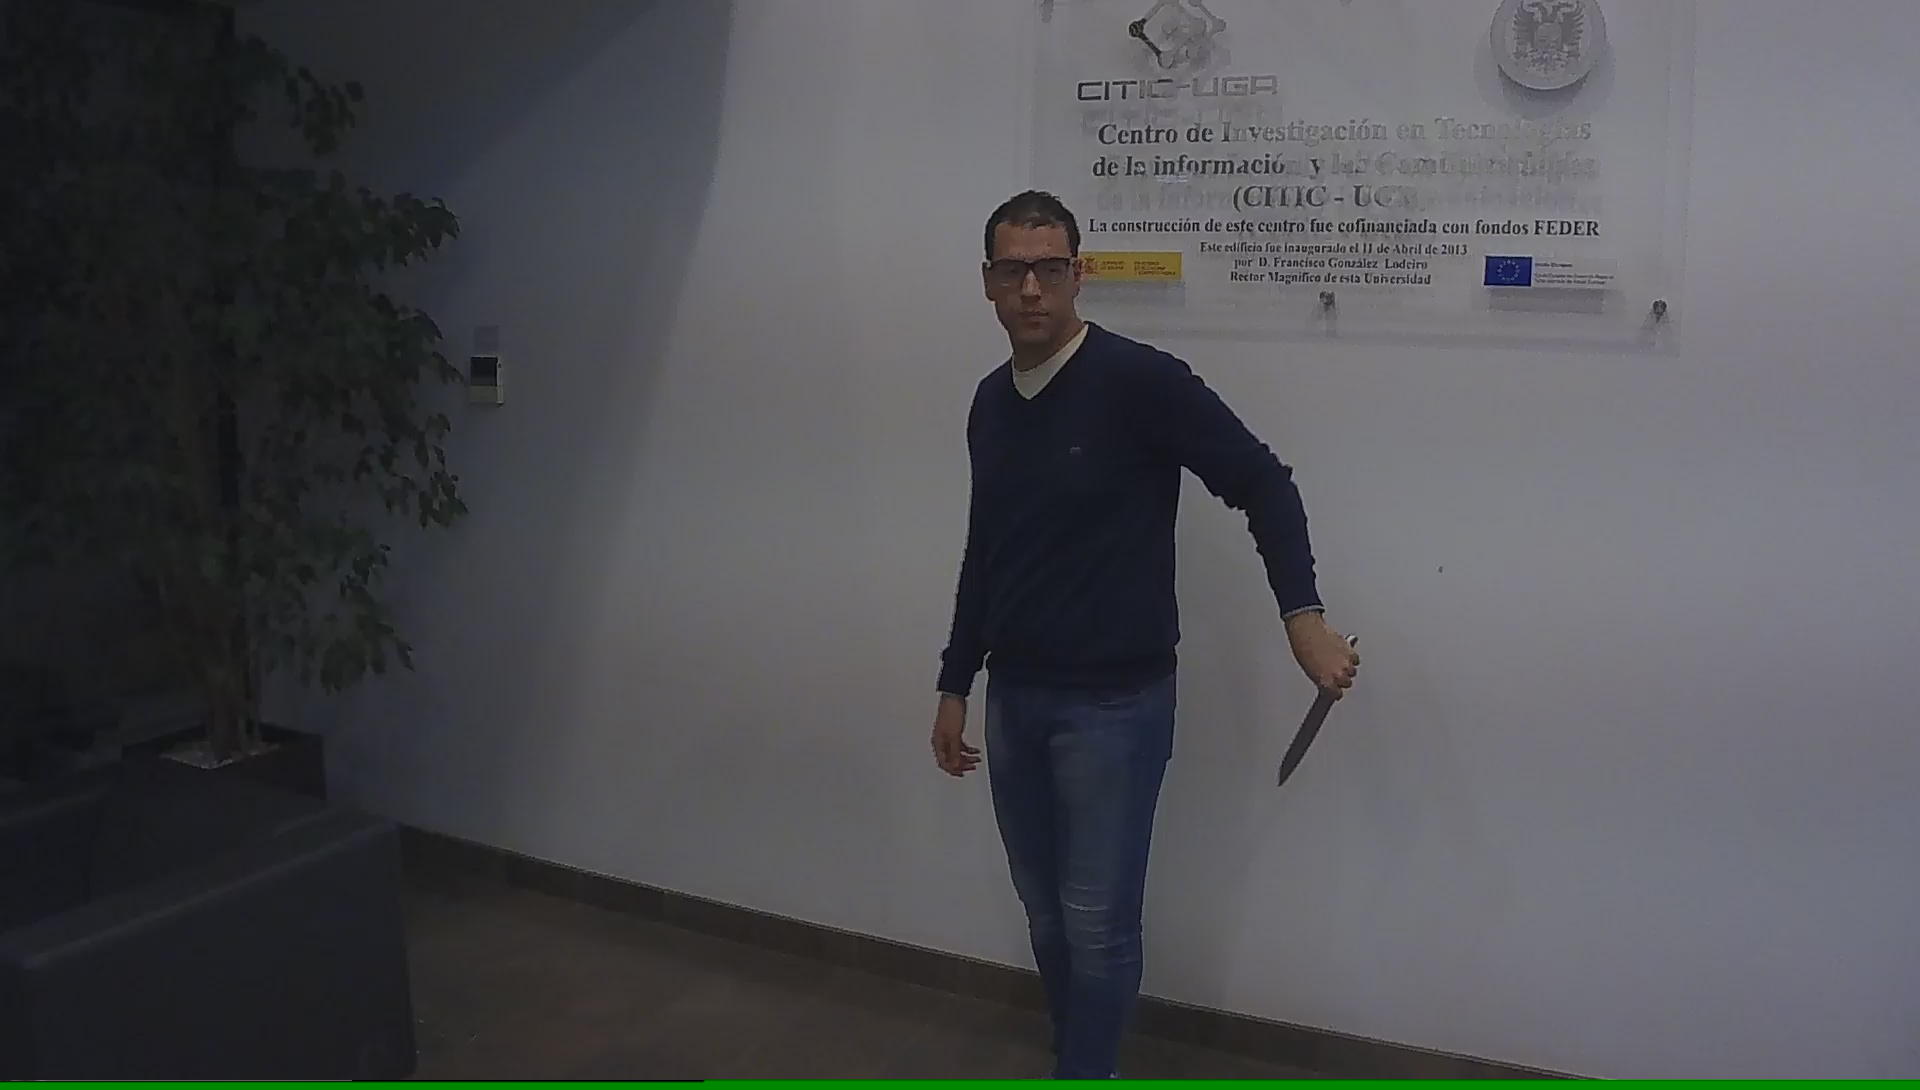knife: (1269, 623, 1371, 803)
